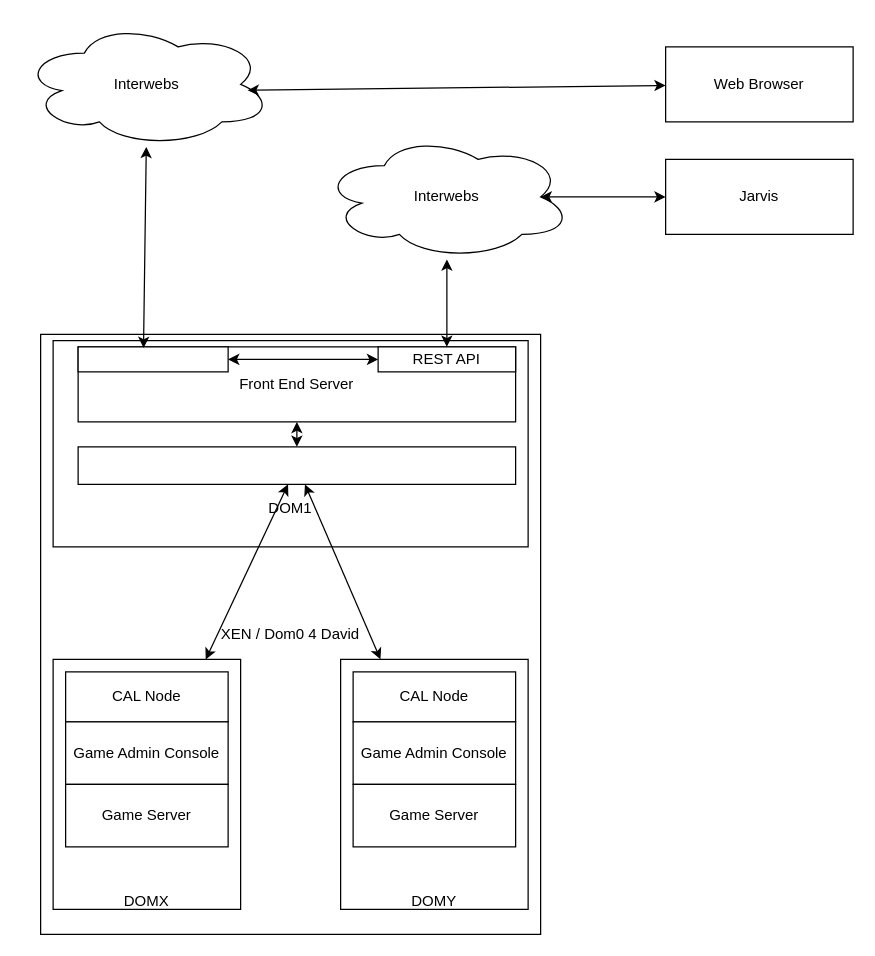
The diagram is 875 pixels wide and 956 high, and some of its shapes have lost their labels. Each missing label, with the centre of its shape:
"Server BackEnd [CAL]" goes at point 296,465.
"WebGUI" goes at point 152,359.
